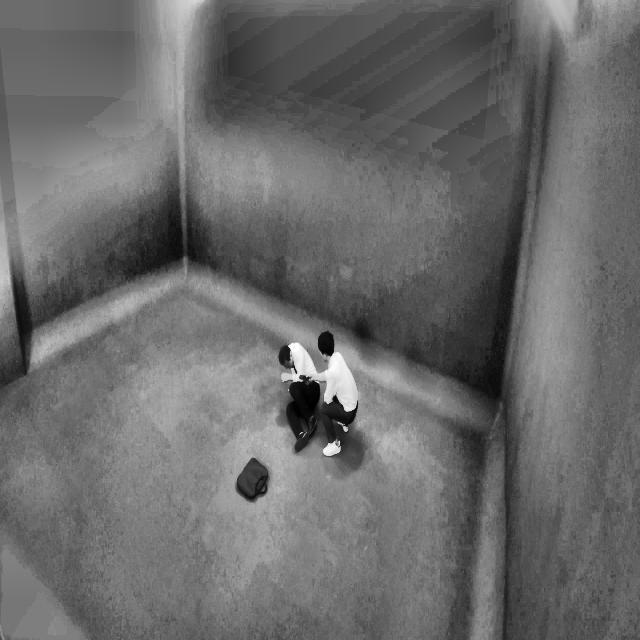assult: (275, 324, 360, 458)
